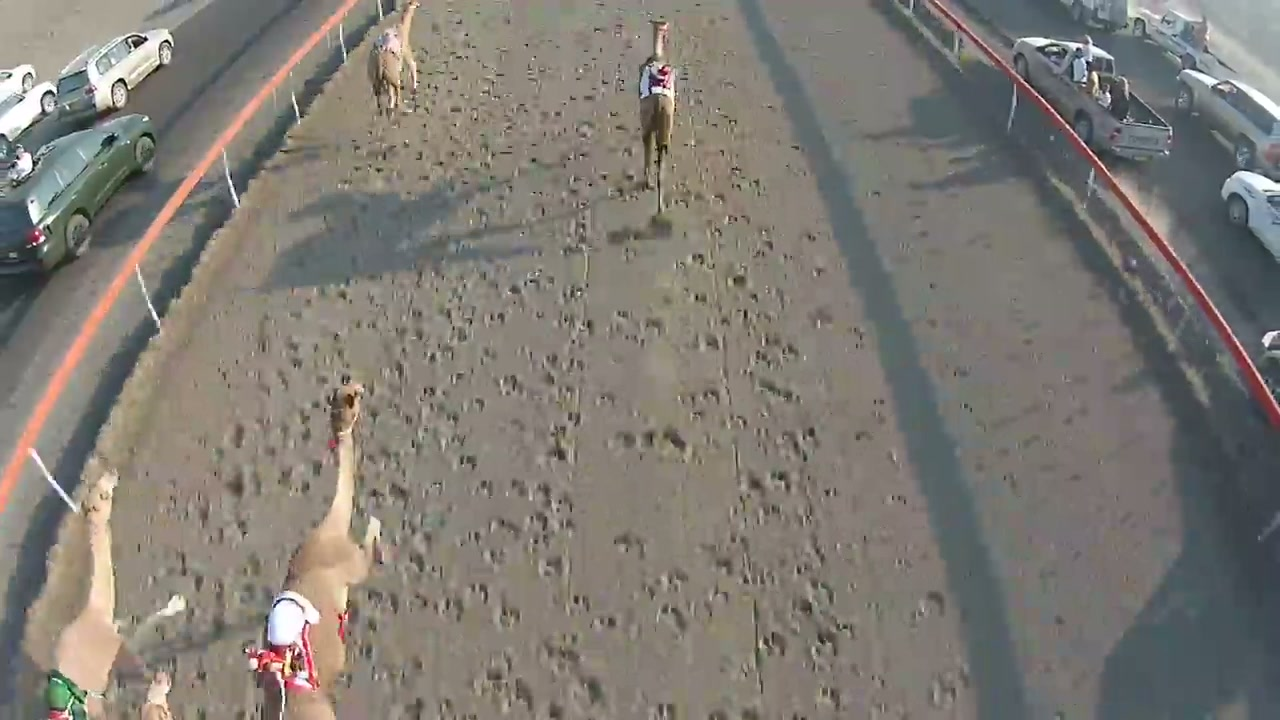animal_footprint: (513, 86, 866, 709), (162, 137, 448, 719), (340, 107, 544, 715)
